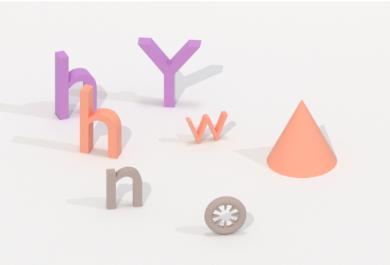0-TamGiac: (262, 95, 341, 181)
0-TronLo: (198, 192, 249, 238)
W: (180, 110, 232, 146)
Y: (133, 32, 204, 111)
h: (74, 83, 125, 160), (50, 49, 101, 122)
n: (102, 164, 146, 212)
